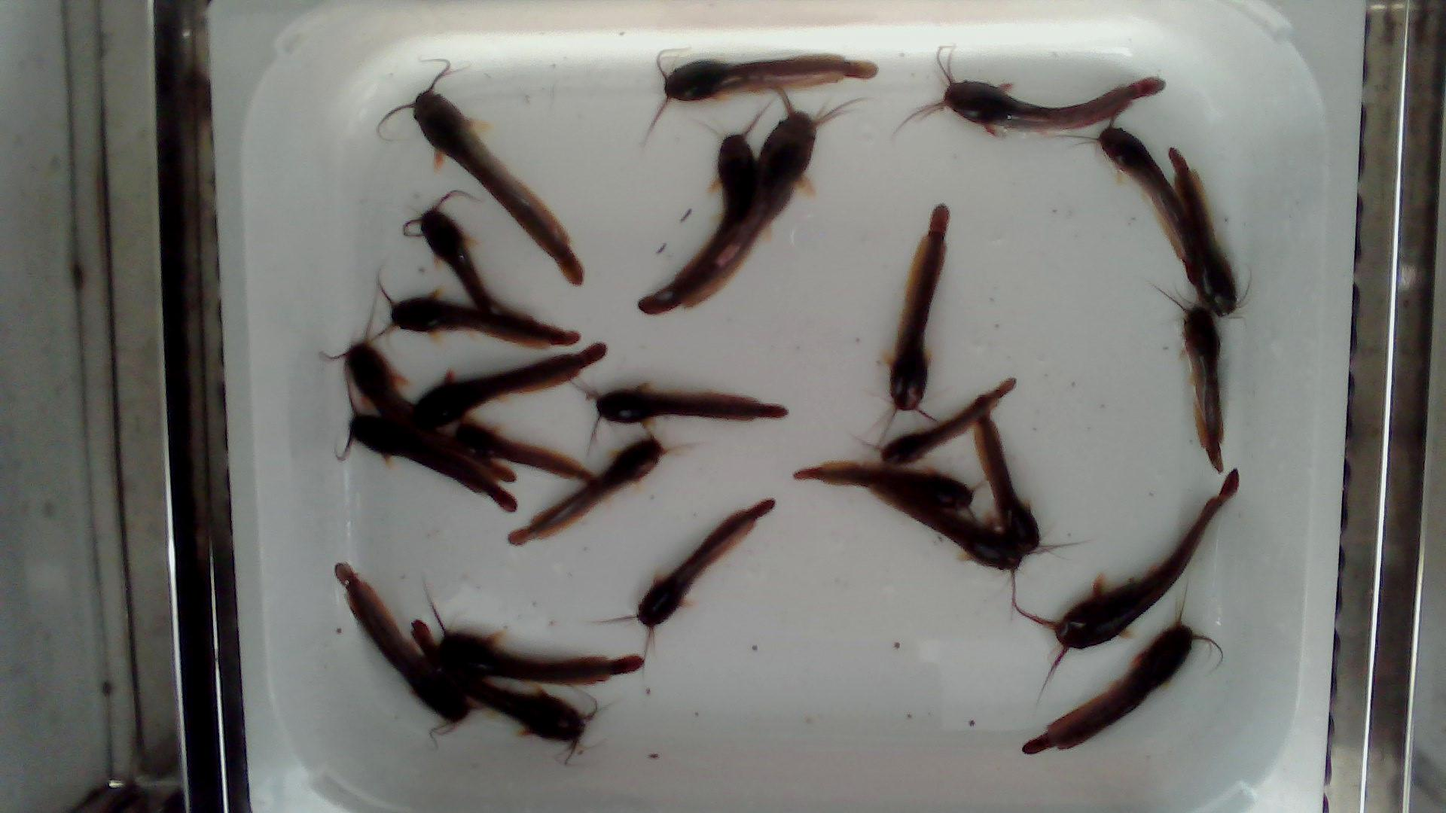lele: (1013, 468, 1239, 682), (377, 65, 583, 285), (682, 92, 867, 308), (1023, 577, 1223, 754), (321, 316, 516, 482), (638, 101, 772, 310), (601, 499, 774, 657), (411, 621, 596, 764), (1053, 119, 1201, 286), (336, 563, 473, 733), (343, 383, 520, 514), (905, 45, 1165, 134), (422, 587, 649, 688), (861, 486, 1021, 624), (650, 48, 877, 130), (972, 396, 1080, 554), (509, 437, 664, 544), (572, 381, 788, 456), (415, 343, 605, 425), (375, 273, 580, 348), (403, 191, 523, 316), (889, 205, 949, 410), (1167, 146, 1239, 316), (792, 461, 986, 519), (1161, 290, 1223, 469), (881, 380, 1014, 463), (456, 421, 586, 478)
